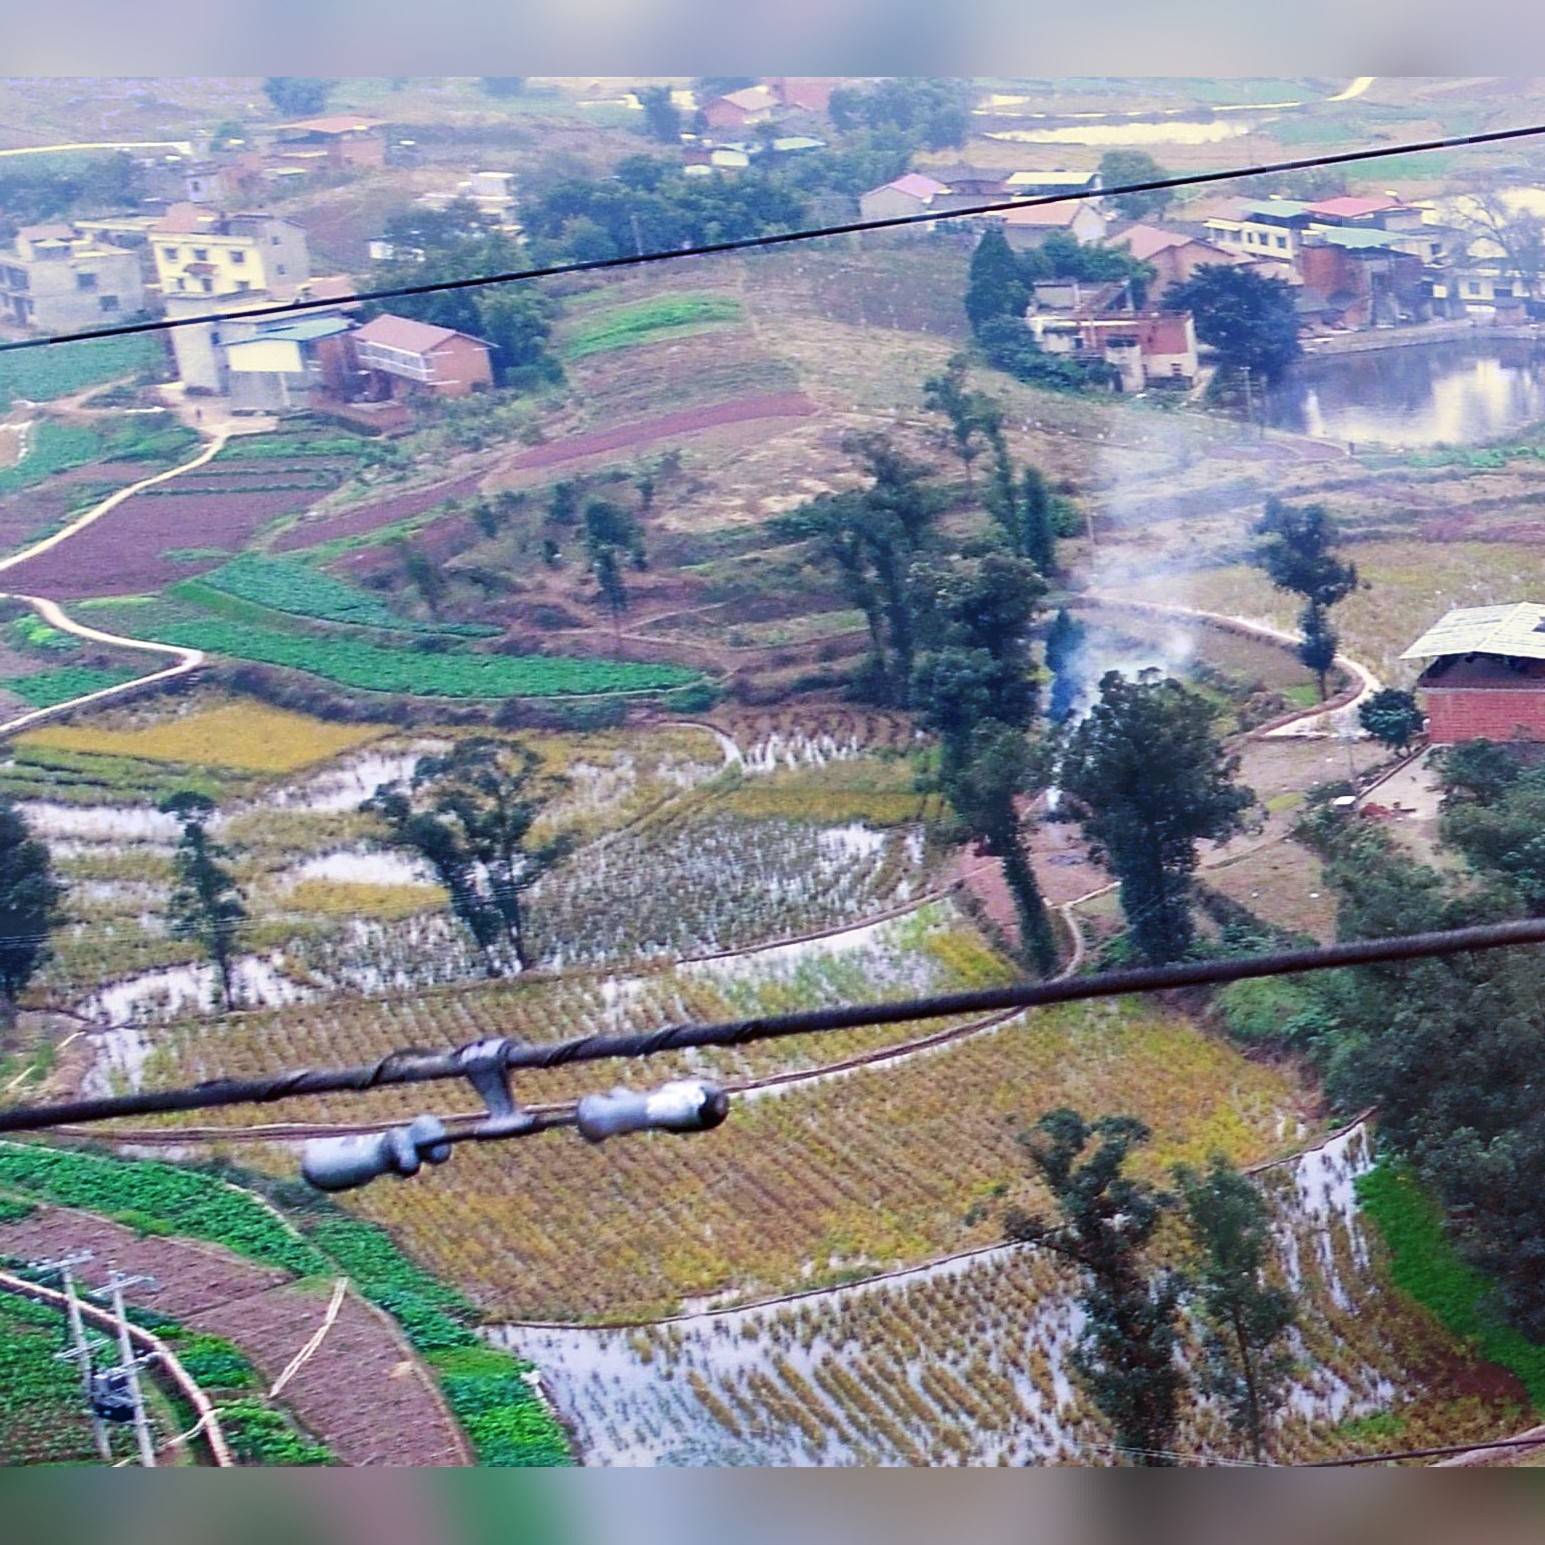Shockproof hammer: (293, 1003, 733, 1214)
